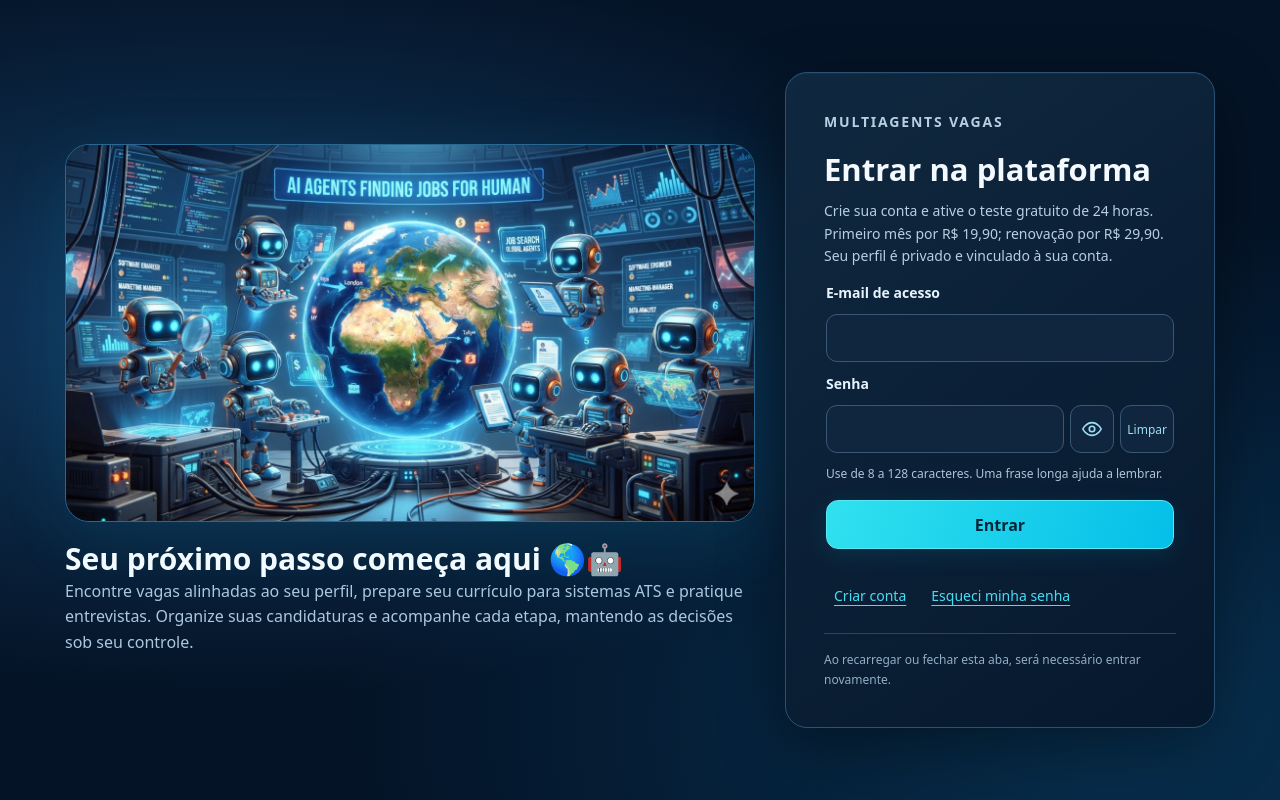
impede o uso da plataforma quando o teste e a consulta terminaram
Type "teste@example.com" into the field labelled "E-mail de acesso". click: (1000, 338)
box: [826, 314, 1174, 362]
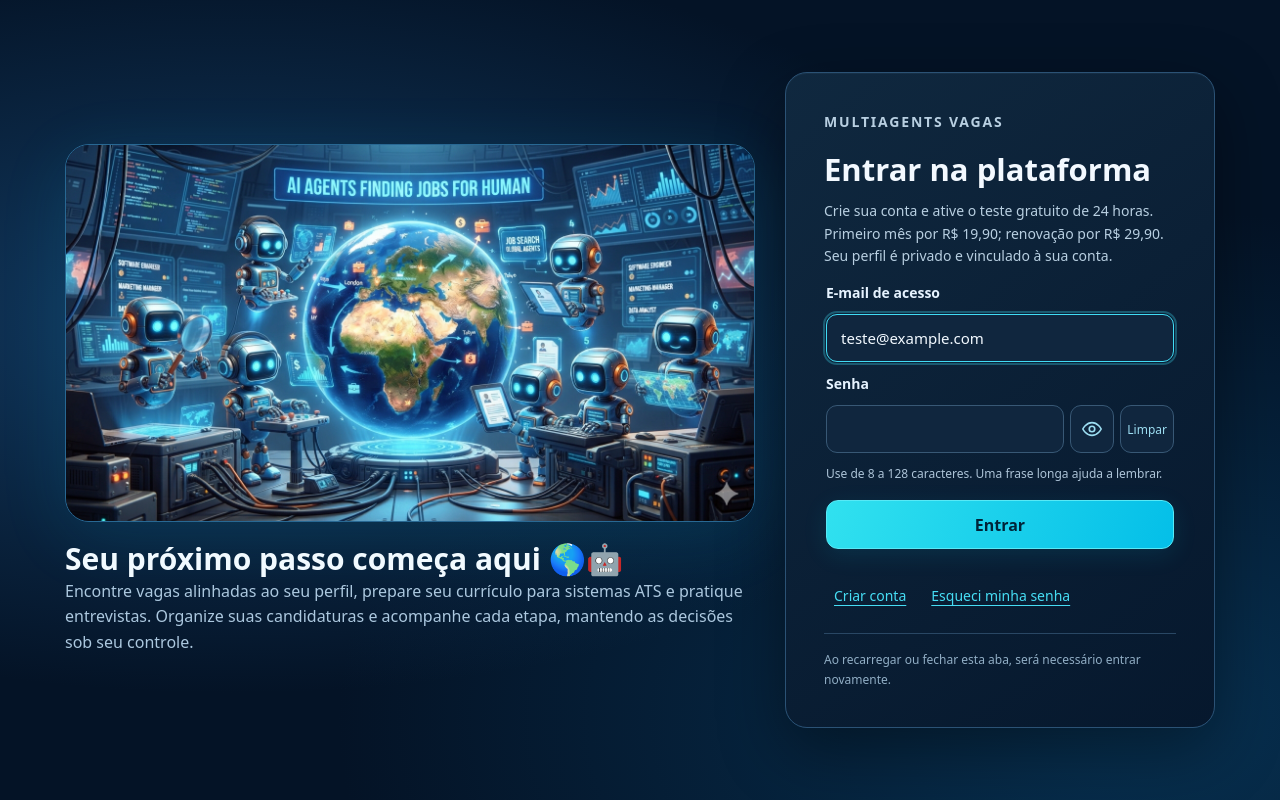
Type "senha longa para teste" into the password field labelled "Senha". click: (945, 430)
box: [826, 406, 1064, 454]
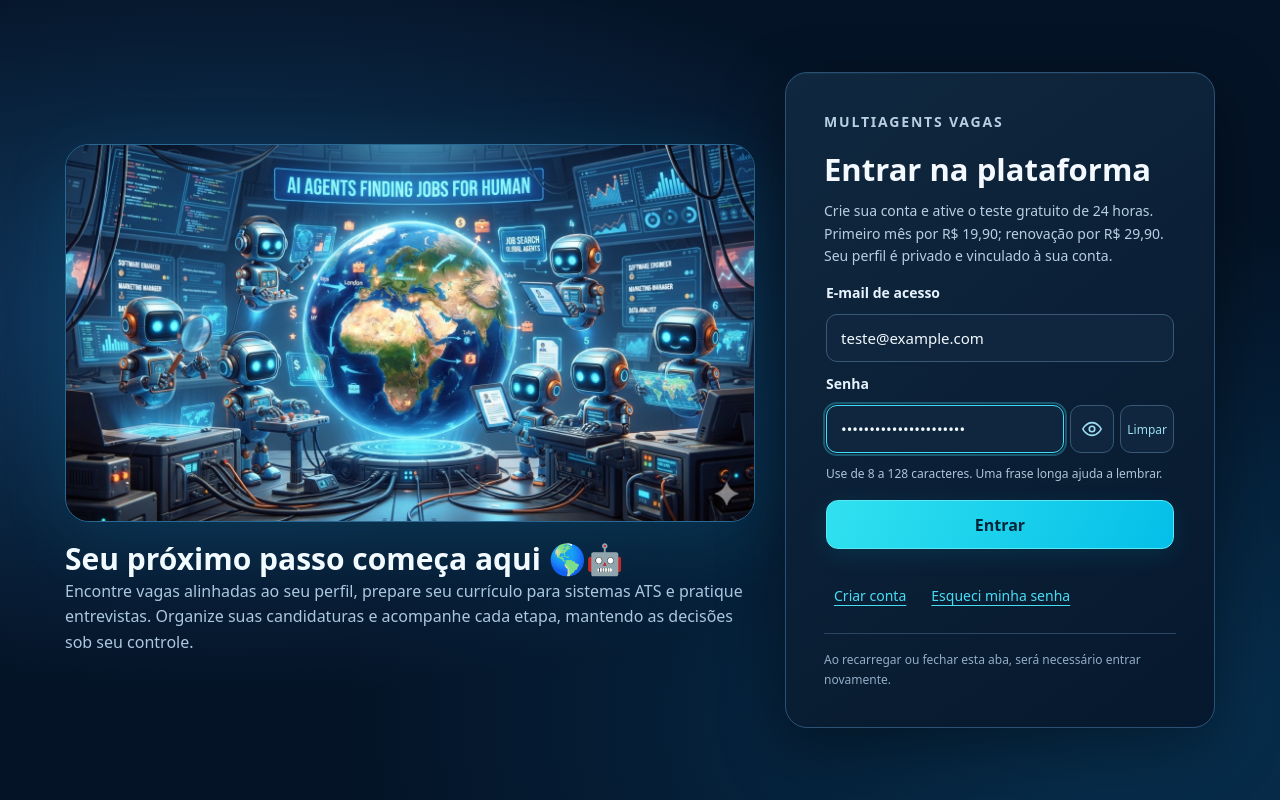
Click the button "Entrar". click: (1000, 525)
box: [826, 500, 1174, 550]
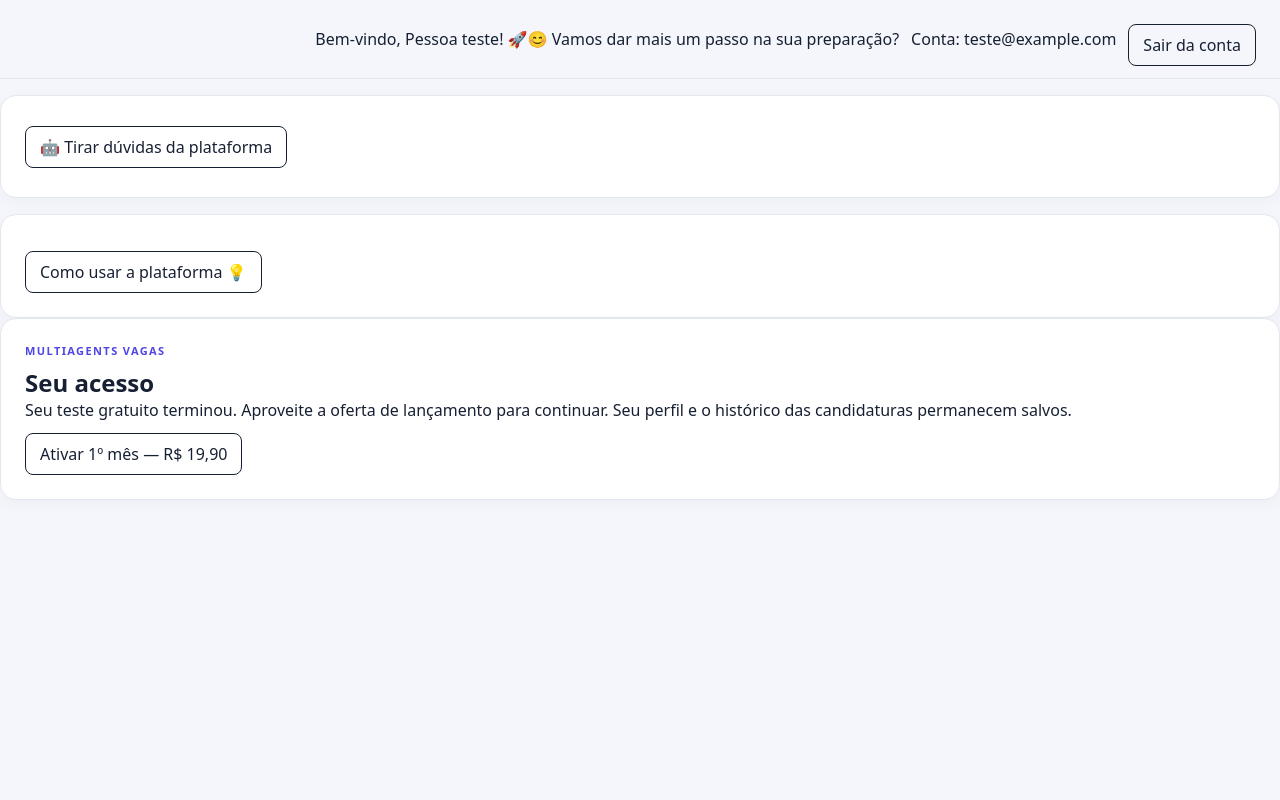
Click the button "Ativar 1º mês — R$ 19,90". click: (134, 454)
box: [25, 433, 242, 475]
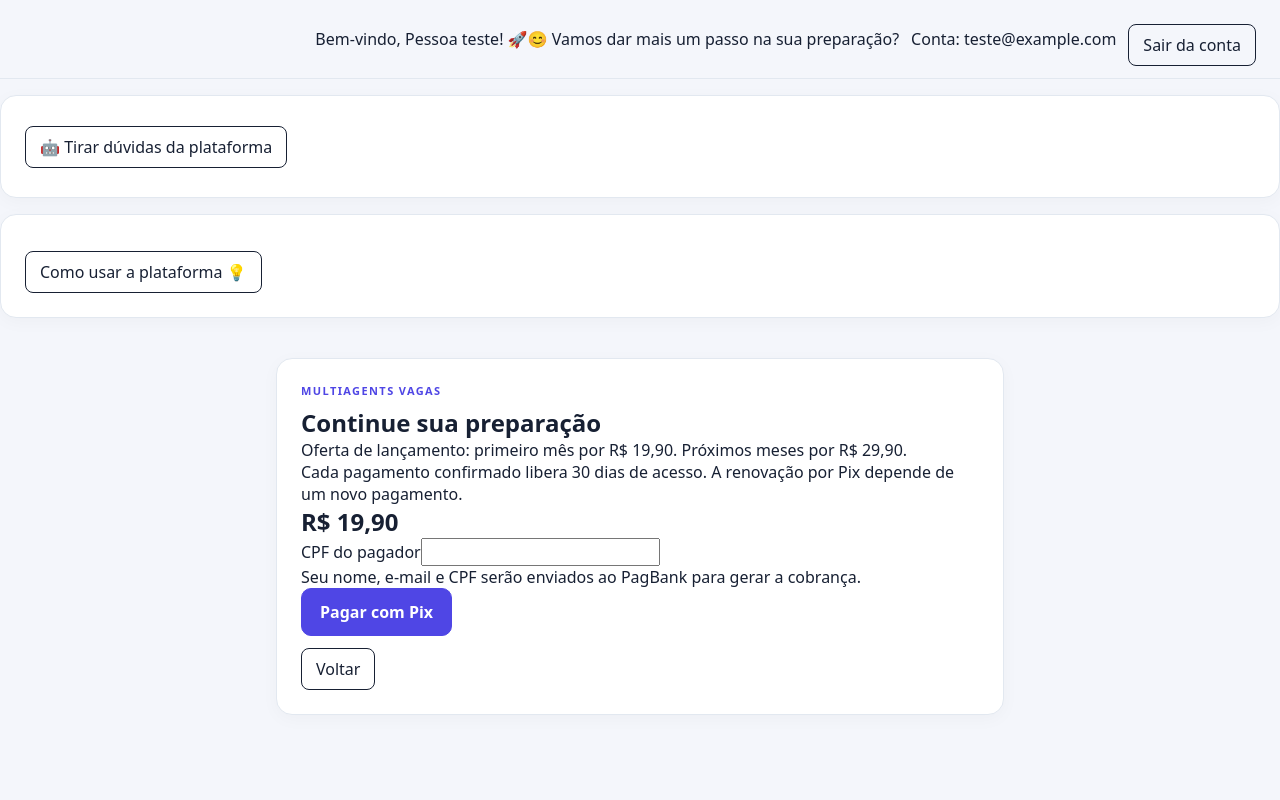
Expected: the heading "Continue sua preparação" is shown, [301, 406, 601, 439]
Expected: the field labelled "CPF do pagador" is shown, [421, 538, 660, 566]
